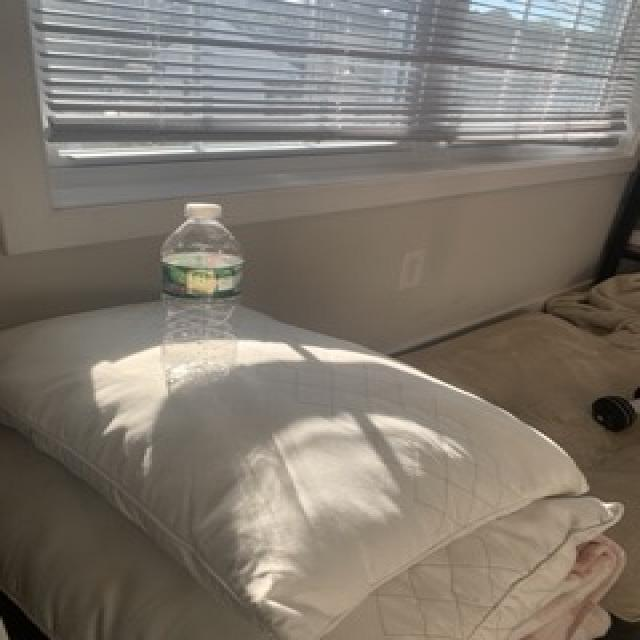water_bottle: (156, 198, 244, 389)
